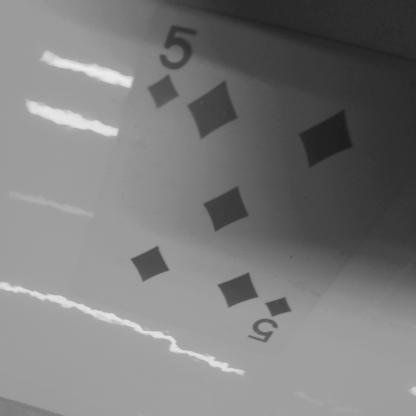5D: (140, 13, 222, 110), (244, 279, 308, 348)
